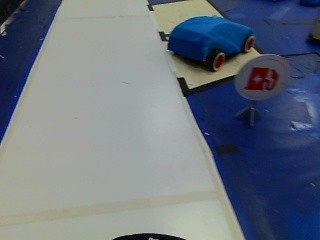battery: (238, 57, 283, 99)
car: (160, 14, 257, 67)
